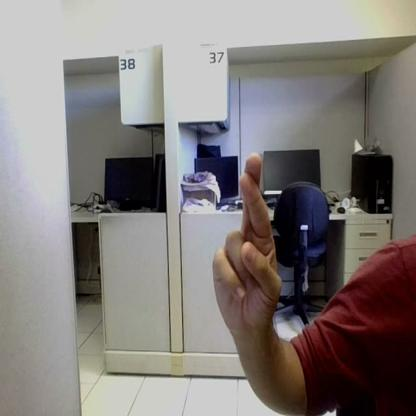R: (213, 154, 281, 326)
